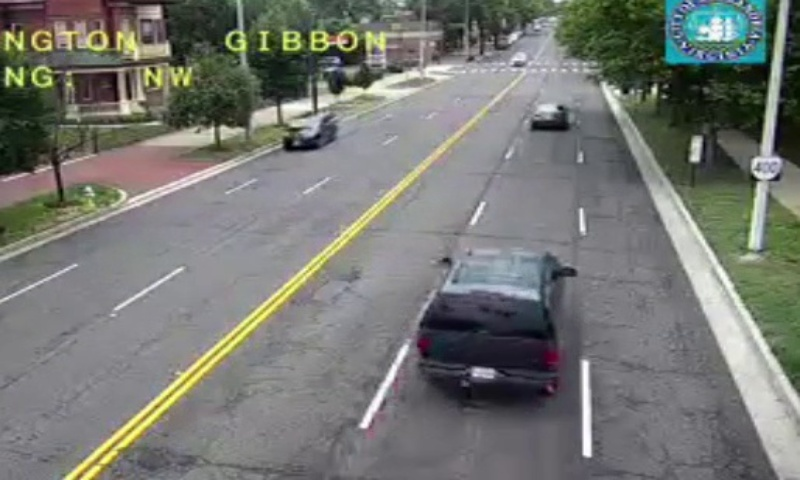car: (418, 252, 561, 397), (530, 105, 566, 128)
